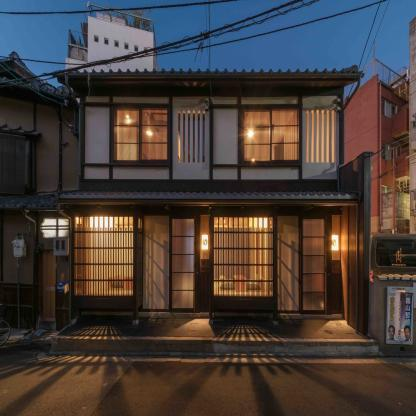Blind: (214, 228, 272, 297), (75, 227, 133, 295), (244, 109, 299, 161), (114, 109, 168, 161)
Building Outline: (51, 65, 374, 335)
Door: (169, 215, 198, 314)
Ground Floor: (73, 204, 343, 317), (73, 199, 343, 204)
Roof: (51, 65, 365, 78), (58, 190, 362, 200)
Top Floor: (79, 78, 341, 199)
Window: (214, 217, 272, 297), (75, 216, 133, 295), (244, 109, 299, 161), (114, 109, 168, 161), (303, 219, 325, 310), (203, 111, 205, 163), (193, 111, 195, 163), (198, 111, 200, 163), (188, 111, 190, 163), (178, 111, 180, 163), (184, 111, 186, 163), (332, 111, 334, 163), (327, 111, 329, 163), (312, 111, 314, 163), (307, 111, 309, 163), (322, 111, 324, 163), (317, 111, 319, 163)
Window Outline: (242, 106, 301, 163), (111, 106, 169, 163)
